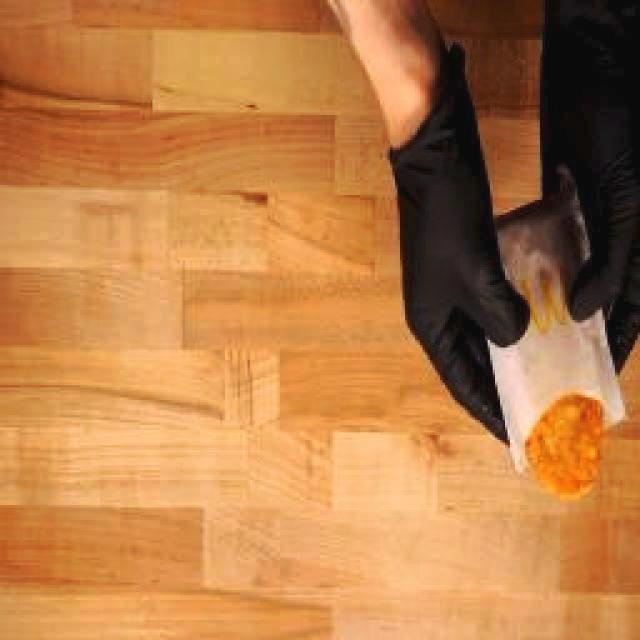Hashbrown: (522, 396, 604, 500)
